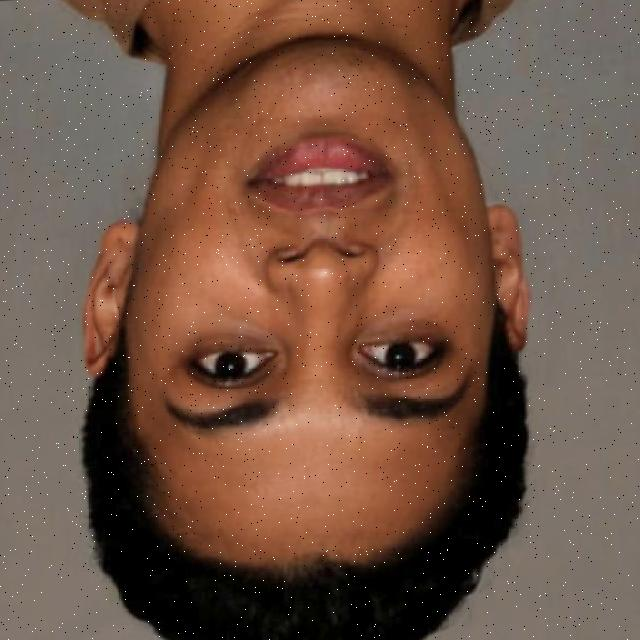puffy_eyes: (194, 325, 261, 345), (383, 319, 451, 338)
